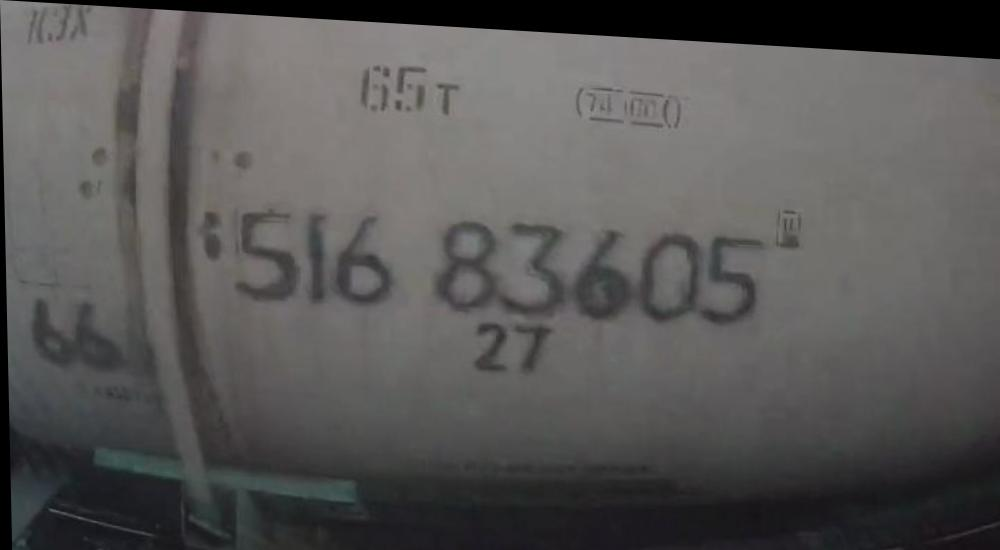Wagon-number: (228, 192, 769, 331)
